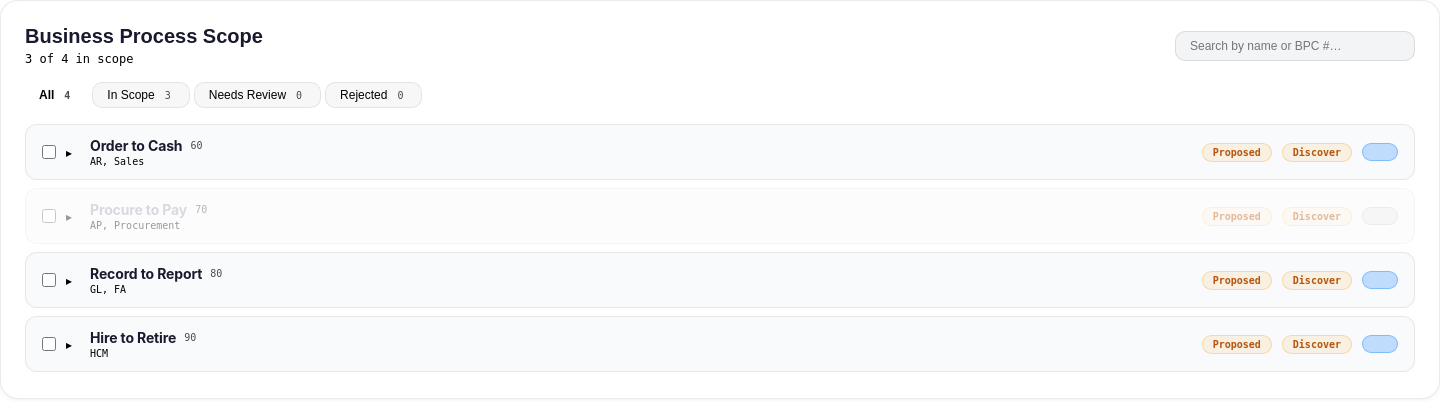
Scenario: BusinessProcessPage Review UX › Search › filters processes by name
In the field with test id "bpc-search": [1295, 46] box left=1175, top=30, right=1415, bottom=60, type "Order"
Wait 300 ms
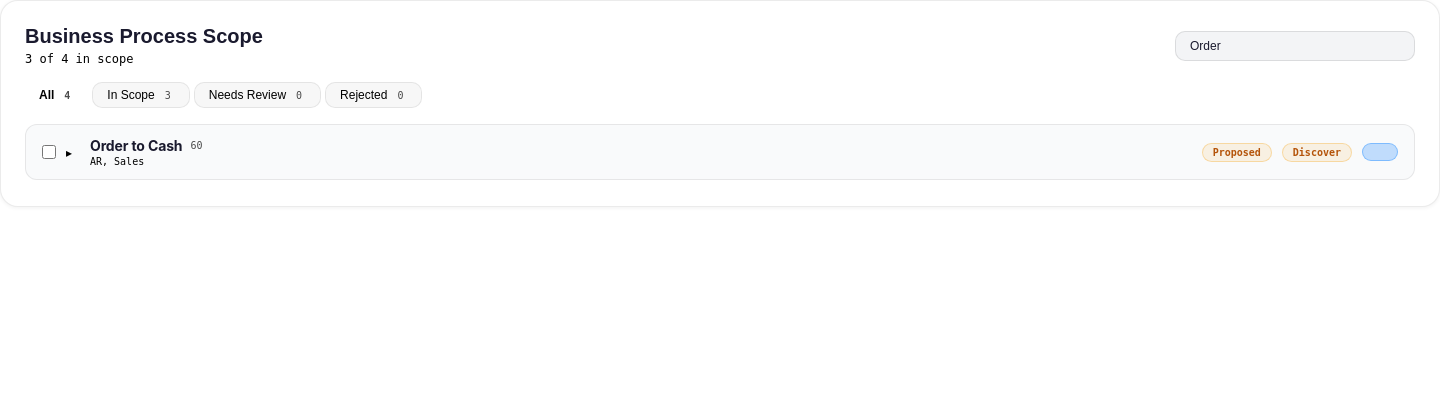
Expected: the element with test id "process-card-e1" is shown, left=25, top=124, right=1415, bottom=182
Now the element with test id "process-card-e2" is gone
Now the element with test id "process-card-e3" is gone
